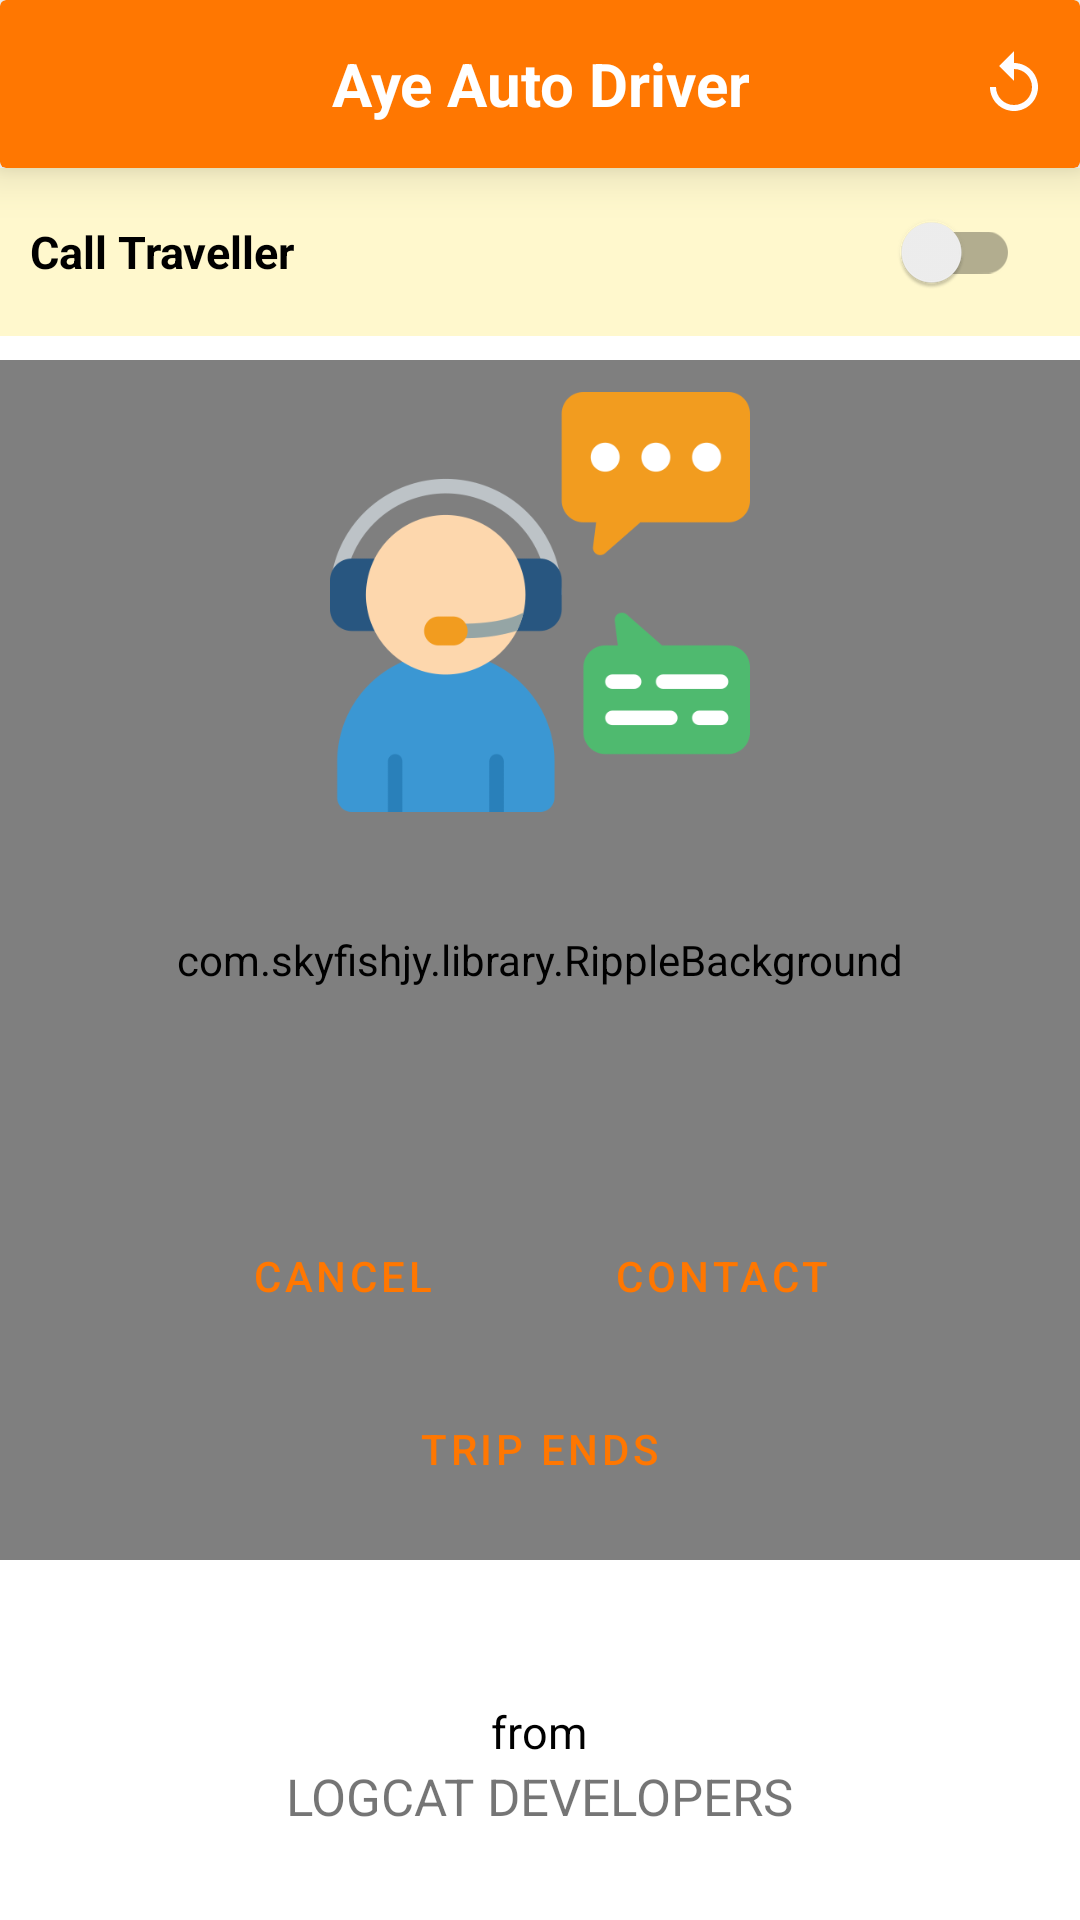

Locate icon controls on the screen. Image size 1080 × 1920, boxes as (x1, y1, x2, y2).
reload: (990, 51, 1038, 111)
